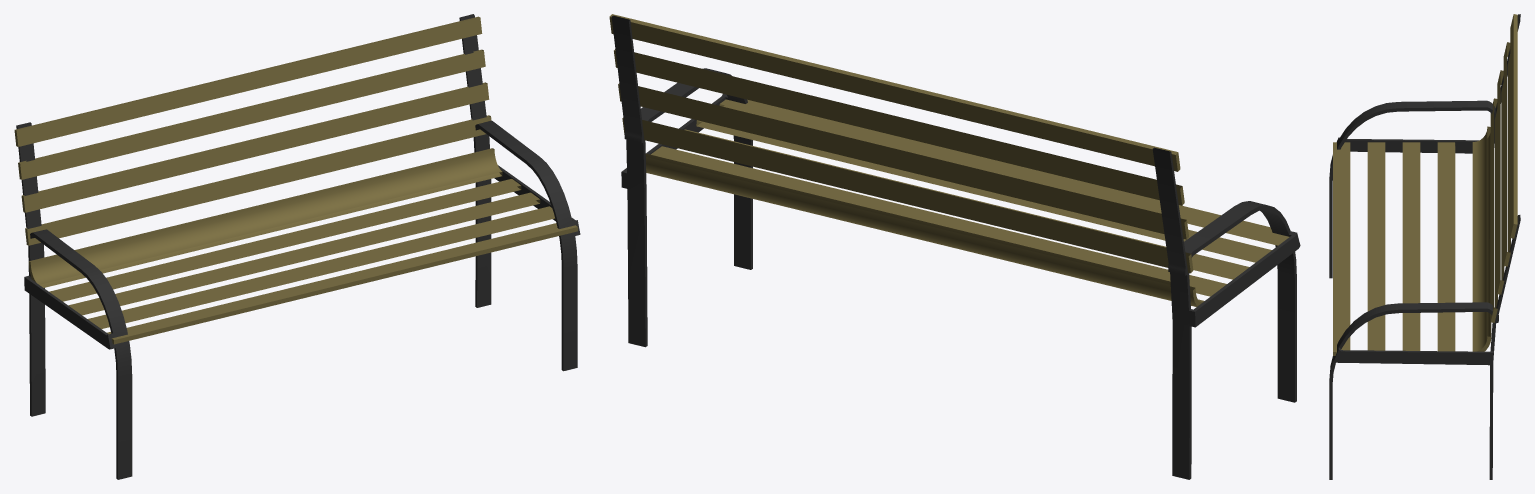
The model's file is bench.fbx.
3 renders of one model, left to right at view 1: azimuth 30°, elevation 25°; view 2: azimuth 150°, elevation 25°; view 3: azimuth 270°, elevation 25°, orthographic. The views are drawn at different scales.
Visible parts, largest first — view 1: Bench; view 2: Bench; view 3: Bench.
Part boxes in pixels (bbox=[...]): Bench: bbox=[14, 14, 580, 479]; Bench: bbox=[609, 14, 1300, 479]; Bench: bbox=[1329, 14, 1520, 479].
Size of the model in its own units: 180 by 102 by 68.41.
